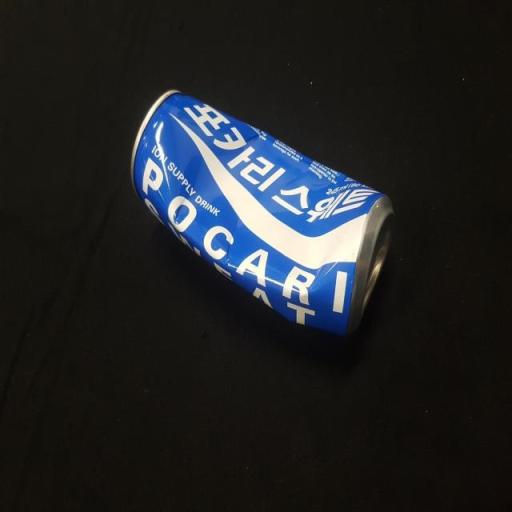metal: (108, 70, 416, 362)
